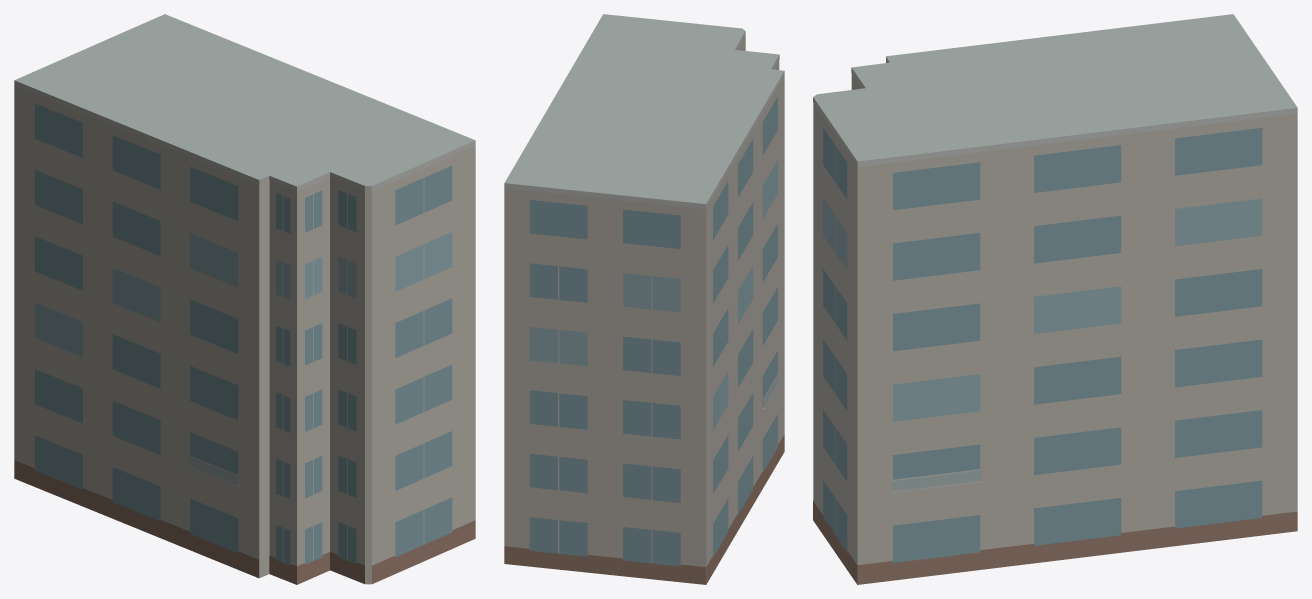
The model's file is survey-upis-32971852.glb.
3 renders of one model, left to right at view 1: azimuth 30°, elevation 25°; view 2: azimuth 150°, elevation 25°; view 3: azimuth 270°, elevation 25°, orthographic. The views are drawn at different scales.
Visible parts, largest first — view 1: survey-upis-32971852.tmp; view 2: survey-upis-32971852.tmp; view 3: survey-upis-32971852.tmp.
Boxes of the visible parts, box(x1,y1,x2,y2) form: survey-upis-32971852.tmp: box(14, 14, 475, 584); survey-upis-32971852.tmp: box(504, 14, 784, 584); survey-upis-32971852.tmp: box(813, 14, 1297, 584).
Size of the model in its own units: 13.69 by 18.3 by 19.
